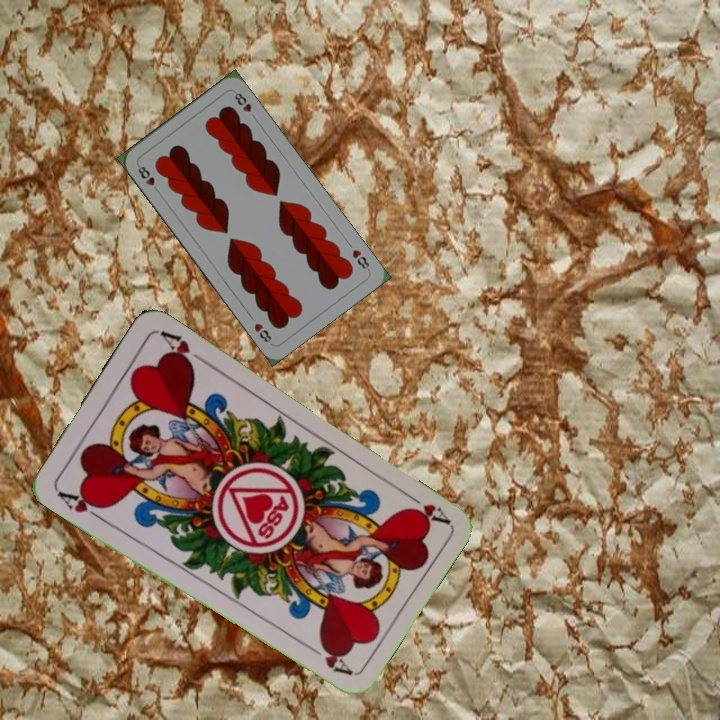H8: (134, 160, 162, 196), (348, 245, 372, 274)
HA: (52, 484, 110, 523), (398, 487, 451, 527)
